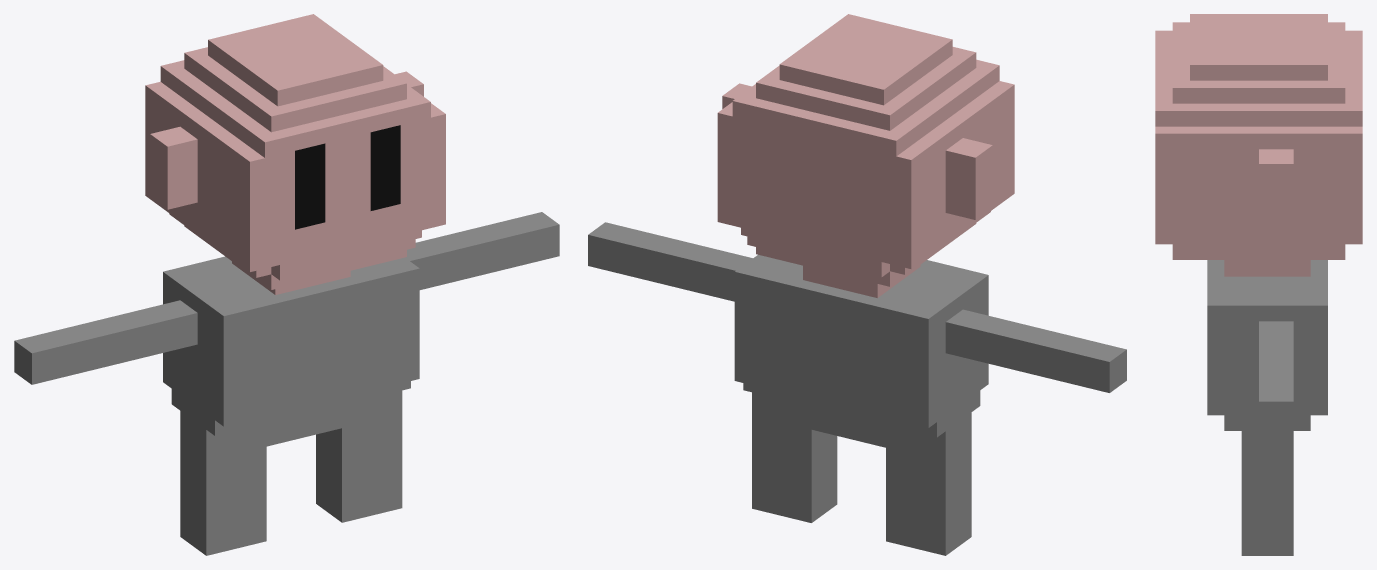
File: Villager.glb
3 views of the same model, side by side, from view 1: azimuth 30°, elevation 25°; view 2: azimuth 150°, elevation 25°; view 3: azimuth 270°, elevation 25° (orthographic).
Parts seen in each view (by area): view 1: head.001, torso.001, legs.001, r_arm.001, l_arm.001; view 2: head.001, torso.001, legs.001, r_arm.001, l_arm.001; view 3: head.001, torso.001, legs.001, l_arm.001.
Boxes of the visible parts, <box> form: head.001: <box>145,14,445,294</box>; torso.001: <box>163,256,419,435</box>; legs.001: <box>180,390,402,555</box>; r_arm.001: <box>14,304,182,384</box>; l_arm.001: <box>405,212,559,289</box>; head.001: <box>717,14,1014,297</box>; torso.001: <box>734,254,988,437</box>; legs.001: <box>752,392,971,555</box>; r_arm.001: <box>960,313,1126,392</box>; l_arm.001: <box>588,222,752,301</box>; head.001: <box>1155,14,1362,276</box>; torso.001: <box>1207,260,1327,430</box>; legs.001: <box>1241,431,1293,555</box>; l_arm.001: <box>1259,328,1293,432</box>.
Bounding box in the file's own units: 3.5 × 3 × 1.2.
